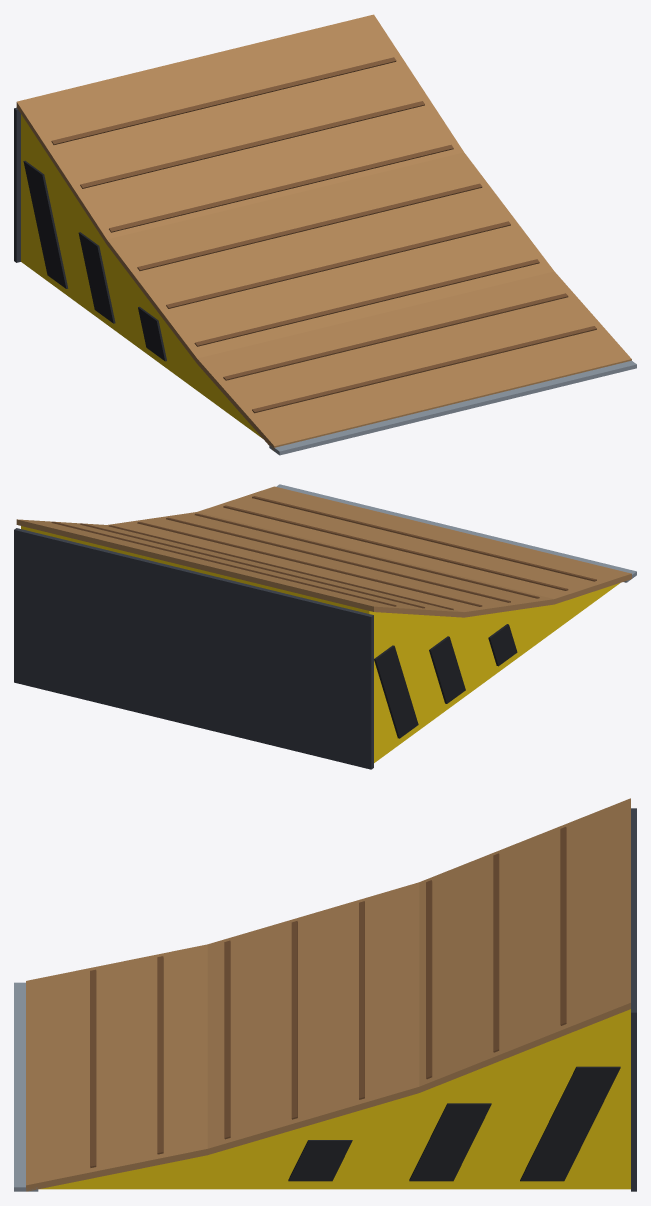
The model's file is stunt_ramp_small.glb.
3 views of the same model, one above another, from view 1: azimuth 30°, elevation 25°; view 2: azimuth 150°, elevation 25°; view 3: azimuth 270°, elevation 25° (orthographic). The views are drawn at different scales.
Visible parts, largest first — view 1: Ramp; view 2: Ramp; view 3: Ramp.
Boxes of the visible parts, bbox=[...] form: Ramp: bbox=[14, 14, 636, 455]; Ramp: bbox=[14, 484, 636, 769]; Ramp: bbox=[14, 798, 636, 1191].
Bounding box in the file's own units: 2.4 × 1.03 × 3.09.
